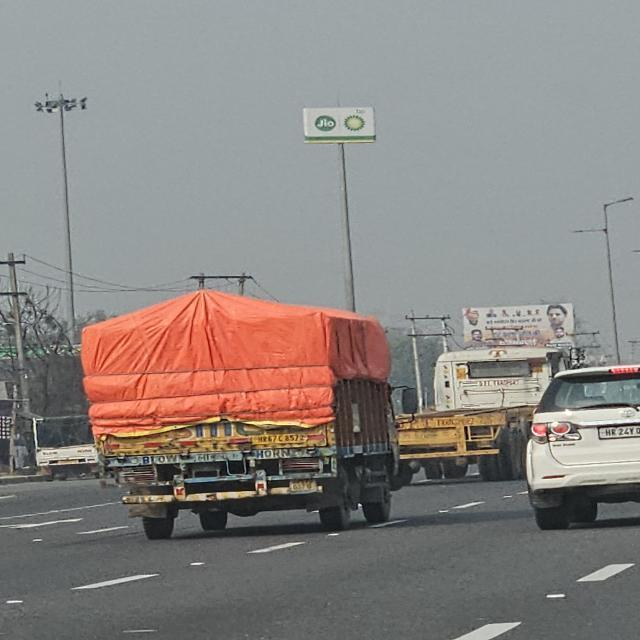covered: (81, 296, 392, 538)
